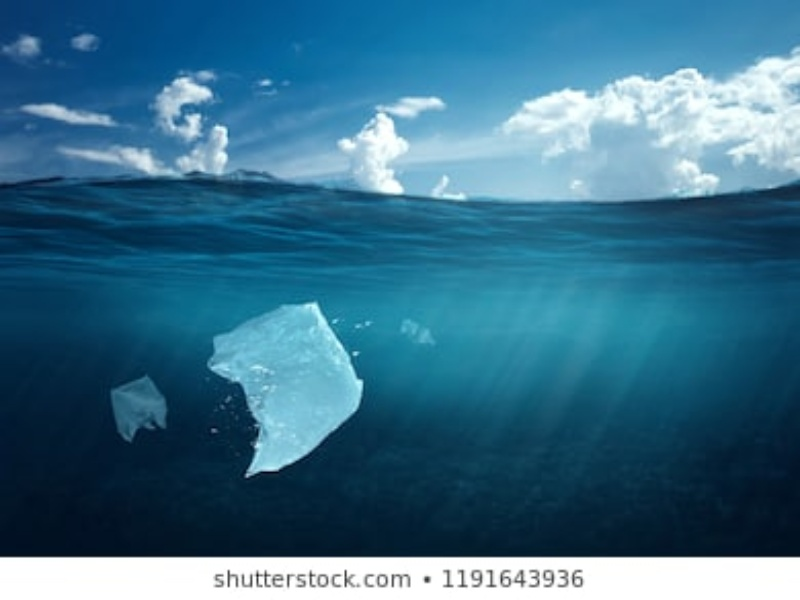plastic-bag: (208, 300, 364, 478), (106, 374, 170, 446)
